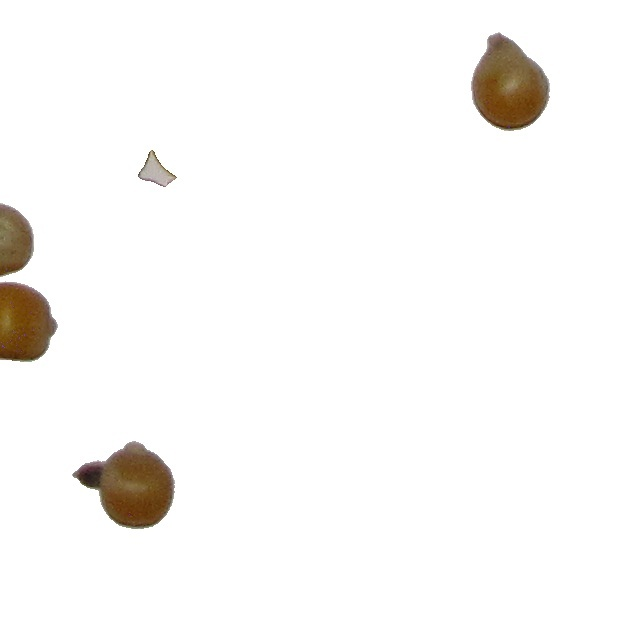mais: (470, 31, 551, 132), (109, 439, 176, 530)
other: (137, 149, 178, 188)
